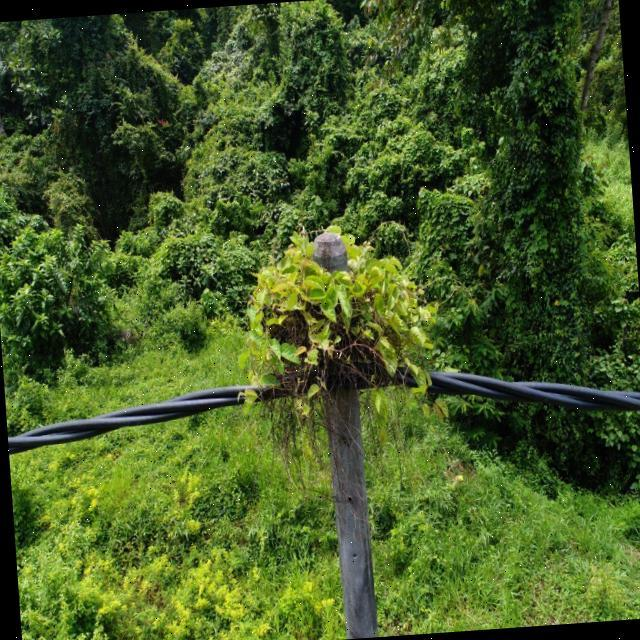critical vegetation: (218, 214, 452, 445)
